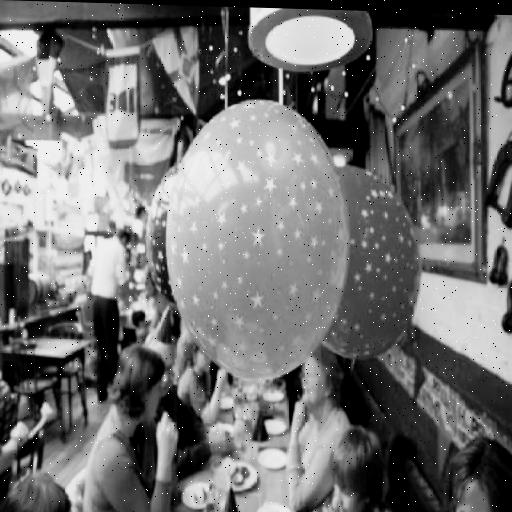balloon: (154, 87, 360, 394), (310, 149, 436, 376), (137, 160, 206, 313)
